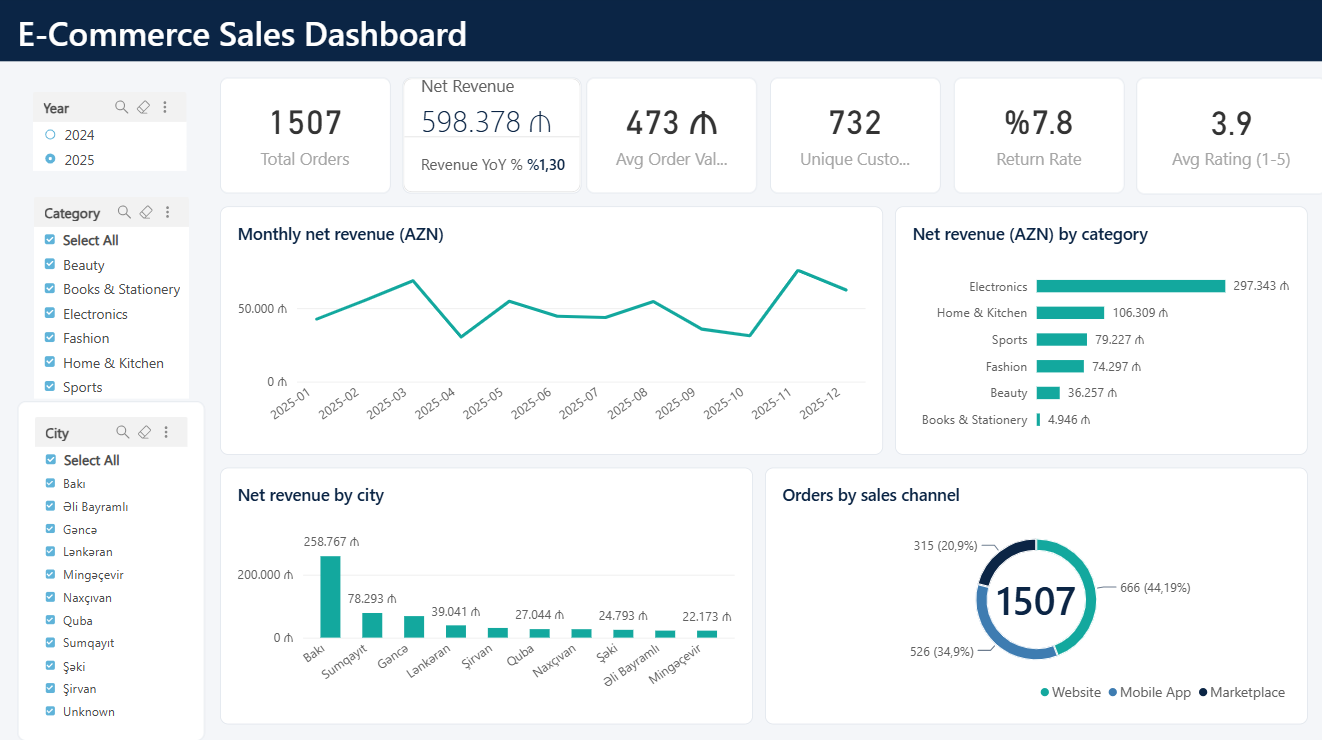

Layout of this report page (visuals, bound fields, positions):
{"tool":"powerbi","page":{"name":"Executive Overview","canvas":[1280,720],"ordinal":0},"visuals":[{"type":"advanceCardE03760C5AB684758B56AA29F9E6C257B","fields":{"mainMeasure":["fact_sales.Total Orders"]},"box":[212,80,165,112],"z":0},{"type":"cardVisual","fields":{"Data":["fact_sales.Net Revenue"]},"box":[389.1,80,173,112],"z":1000},{"type":"lineChart","title":"Monthly net revenue (AZN)","fields":{"Category":["Calendar.Year-Month"],"Y":["fact_sales.Net Revenue"]},"box":[212,204,640,240],"z":2000},{"type":"PowerSlicerA96234ADB8D143D1837FEC426BB34781","fields":{"categories":["Calendar.Year"]},"box":[15.1,79.6,179.8,112.5],"z":3000},{"type":"advanceCardE03760C5AB684758B56AA29F9E6C257B","fields":{"mainMeasure":["fact_sales.Avg Order Value"]},"box":[566,80,165,112],"z":4000},{"type":"advanceCardE03760C5AB684758B56AA29F9E6C257B","fields":{"mainMeasure":["fact_sales.Unique Customers"]},"box":[743,80,165,112],"z":5000},{"type":"advanceCardE03760C5AB684758B56AA29F9E6C257B","fields":{"mainMeasure":["fact_sales.Avg Rating"]},"box":[1096.4,79.6,183.9,112.5],"z":6000},{"type":"advanceCardE03760C5AB684758B56AA29F9E6C257B","fields":{"mainMeasure":["fact_sales.Return Rate"]},"box":[920,80,165,112],"z":7000},{"type":"shape","box":[0,0,1280,64],"z":8000},{"type":"textbox","box":[16.6,14,600,48],"z":9000},{"type":"PowerSlicerA96234ADB8D143D1837FEC426BB34781","fields":{"categories":["fact_sales.Category"]},"box":[16.5,181.1,181.1,227.8],"z":10000},{"type":"clusteredBarChart","title":"Net revenue (AZN) by category ","fields":{"Category":["fact_sales.Category"],"Y":["fact_sales.Net Revenue"]},"box":[864,204,398,240],"z":12000},{"type":"clusteredColumnChart","title":"Net revenue by city","fields":{"Category":["fact_sales.City"],"Y":["fact_sales.Net Revenue"]},"box":[212,456,514,248],"z":13000},{"type":"donutChart","title":"Orders by sales channel","fields":{"Category":["fact_sales.Sales_Channel"],"Y":["fact_sales.Total Orders"]},"box":[738,456,524,248],"z":14000},{"type":"PowerSlicerA96234ADB8D143D1837FEC426BB34781","fields":{"categories":["fact_sales.City"]},"box":[16.5,392.5,181.1,328],"z":14001}]}

Visuals, with their boxes in screenshot pixels (x1, y1, x2, y2), scaled from the page's 1280x720 canvas onto the 1322x740 screenshot:
advanceCardE03760C5AB684758B56AA29F9E6C257B - fact_sales.Total Orders: 219/82/389/197
cardVisual - fact_sales.Net Revenue: 402/82/581/197
"Monthly net revenue (AZN)" lineChart: 219/210/880/456
PowerSlicerA96234ADB8D143D1837FEC426BB34781 - Calendar.Year: 16/82/201/197
advanceCardE03760C5AB684758B56AA29F9E6C257B - fact_sales.Avg Order Value: 585/82/755/197
advanceCardE03760C5AB684758B56AA29F9E6C257B - fact_sales.Unique Customers: 767/82/938/197
advanceCardE03760C5AB684758B56AA29F9E6C257B - fact_sales.Avg Rating: 1132/82/1321/197
advanceCardE03760C5AB684758B56AA29F9E6C257B - fact_sales.Return Rate: 950/82/1121/197
shape: 0/0/1321/66
textbox: 17/14/637/64
PowerSlicerA96234ADB8D143D1837FEC426BB34781 - fact_sales.Category: 17/186/204/420
"Net revenue (AZN) by category " clusteredBarChart: 892/210/1303/456
"Net revenue by city" clusteredColumnChart: 219/469/750/724
"Orders by sales channel" donutChart: 762/469/1303/724
PowerSlicerA96234ADB8D143D1837FEC426BB34781 - fact_sales.City: 17/403/204/739
